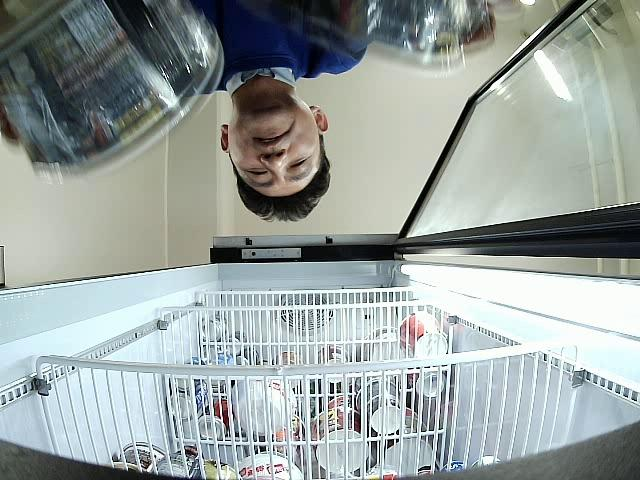07_buldak_L: (0, 0, 223, 181), (343, 0, 498, 70)
